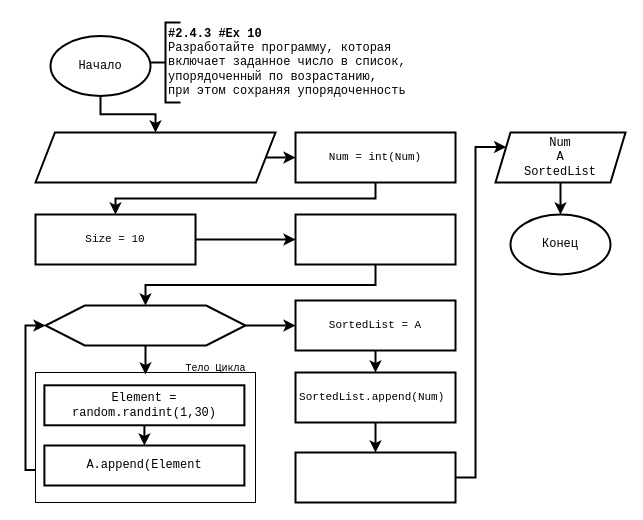
Some shapes in this 643 by 520 pixel diagram are drawn without their labels. Each missing label, with the centre of its shape:
A = []: (375,239)
i in range(N): (145,325)
Num = input('Введите число, которое хотите добавить: '): (155,157)
SortedList = sorted(SortedList): (375,477)
